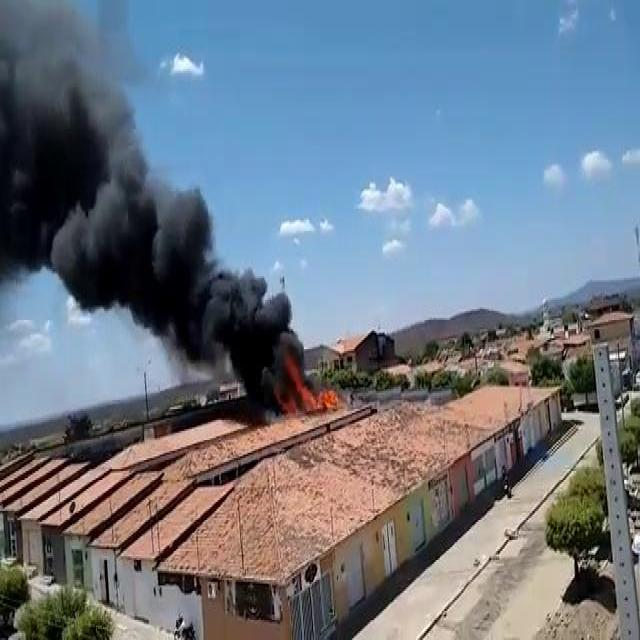Fire: (267, 340, 351, 413)
Smoke: (0, 3, 322, 426)
